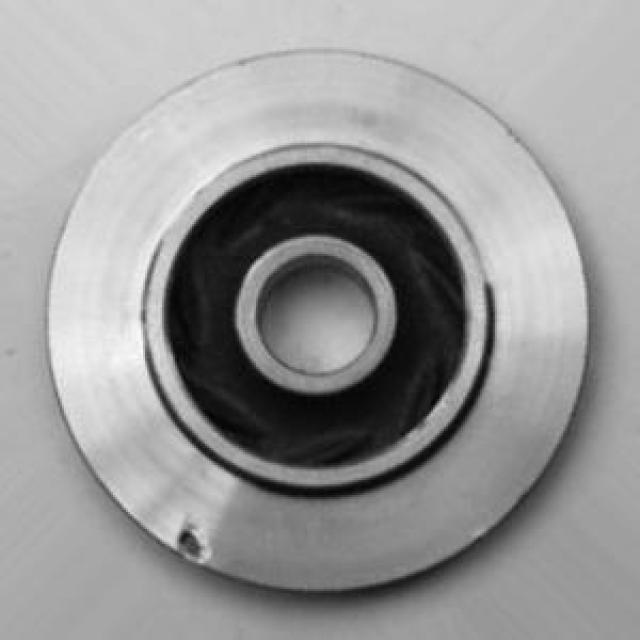Defect: (171, 511, 210, 566)
